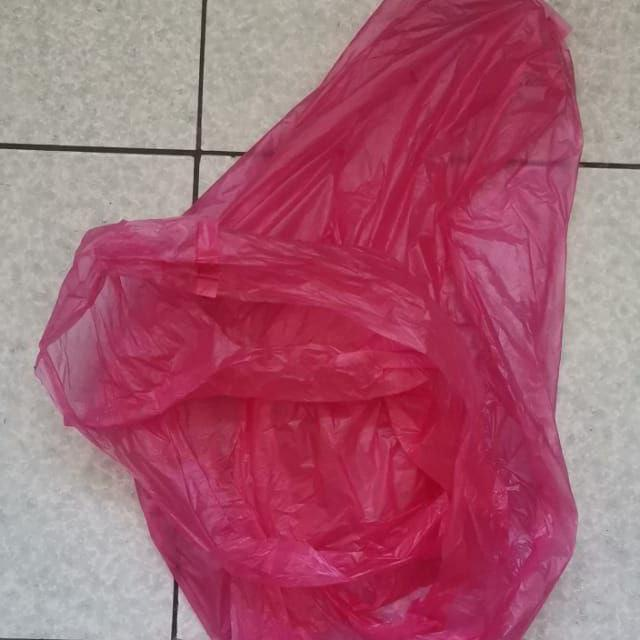plastic: (33, 0, 583, 640)
